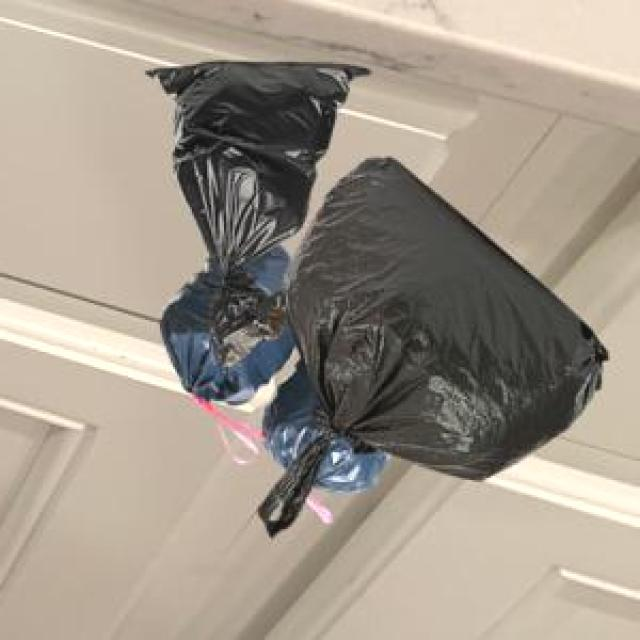Trashbag: (284, 154, 608, 487), (158, 44, 340, 260), (156, 256, 291, 394)
